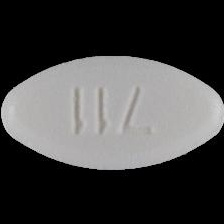64725-0711: (0, 0, 224, 224)
